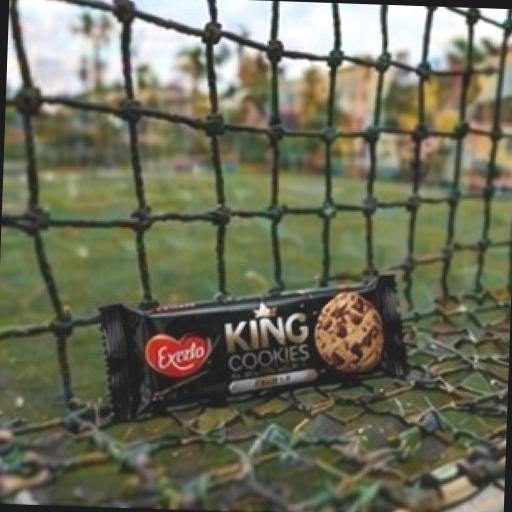king_cooking: (65, 236, 454, 430)
